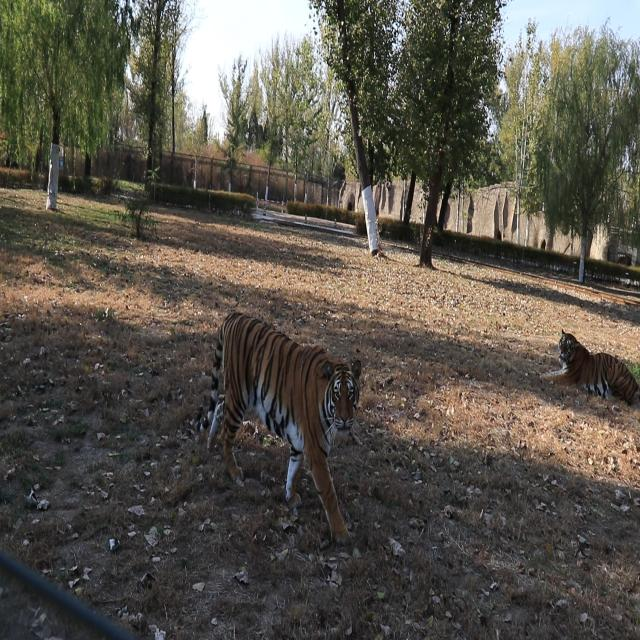Tiger: (181, 304, 394, 562), (534, 317, 640, 410)
